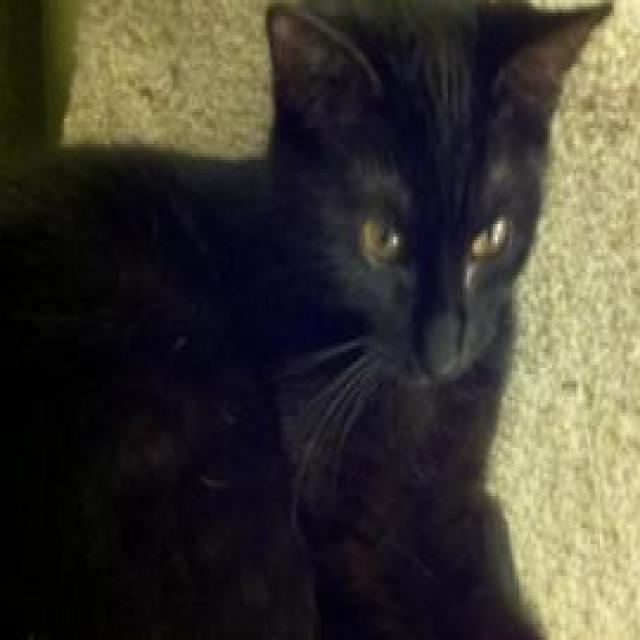Bombay: (0, 0, 619, 640)
